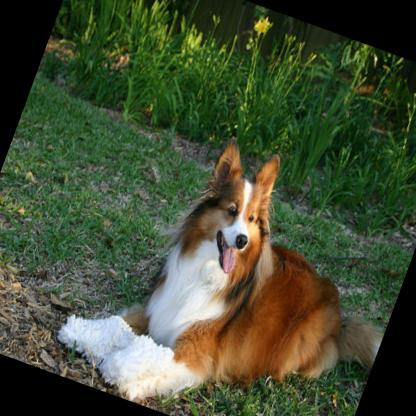Shetland_sheepdog: (42, 100, 416, 416)
